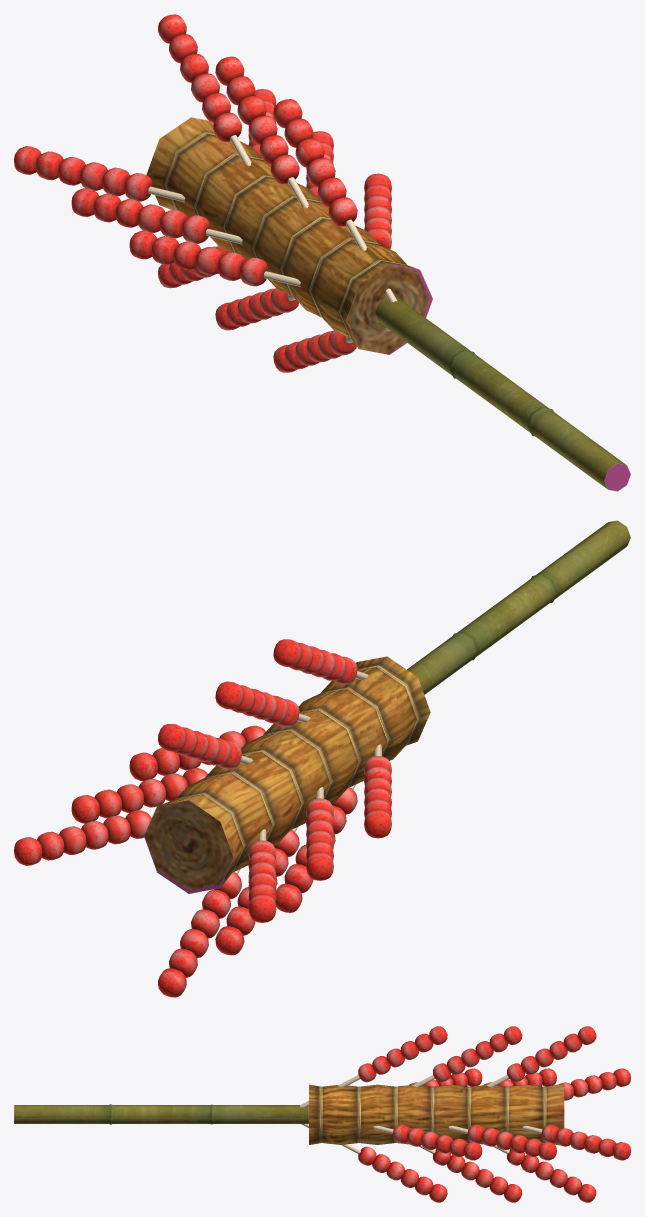
The model's file is Candied_Hawthorn_Stand.fbx.
3 views of the same model, one above another, from view 1: azimuth 30°, elevation 25°; view 2: azimuth 150°, elevation 25°; view 3: azimuth 270°, elevation 25° (orthographic). The views are drawn at different scales.
Parts seen in each view (by area): view 1: Candied Hawthorn Stand, Candied Hawthorn.008, Candied Hawthorn.011, Candied Hawthorn.010, Candied Hawthorn.009, Candied Hawthorn.007, Candied Hawthorn.006, Candied Hawthorn.005, Candied Hawthorn.003, Candied Hawthorn.004, Candied Hawthorn.001; view 2: Candied Hawthorn Stand, Candied Hawthorn, Candied Hawthorn.001, Candied Hawthorn.002, Candied Hawthorn.007, Candied Hawthorn.008, Candied Hawthorn.006, Candied Hawthorn.011, Candied Hawthorn.009, Candied Hawthorn.010, Candied Hawthorn.003, Candied Hawthorn.005 (+1 smaller); view 3: Candied Hawthorn Stand, Candied Hawthorn.008, Candied Hawthorn.005, Candied Hawthorn.007, Candied Hawthorn.006, Candied Hawthorn, Candied Hawthorn.002, Candied Hawthorn.004, Candied Hawthorn.001, Candied Hawthorn.003, Candied Hawthorn.009, Candied Hawthorn.010 (+1 smaller).
Boxes of the visible parts, x1,y1,x2,y2 form: Candied Hawthorn Stand: [146, 117, 630, 491]; Candied Hawthorn.008: [273, 99, 397, 302]; Candied Hawthorn.011: [129, 230, 300, 286]; Candied Hawthorn.010: [71, 188, 242, 244]; Candied Hawthorn.009: [14, 146, 184, 202]; Candied Hawthorn.007: [215, 56, 308, 208]; Candied Hawthorn.006: [158, 14, 251, 166]; Candied Hawthorn.005: [273, 327, 389, 372]; Candied Hawthorn.003: [215, 288, 298, 330]; Candied Hawthorn.004: [364, 173, 391, 249]; Candied Hawthorn.001: [158, 246, 230, 288]; Candied Hawthorn Stand: [144, 520, 630, 893]; Candied Hawthorn: [14, 810, 151, 865]; Candied Hawthorn.001: [158, 869, 241, 997]; Candied Hawthorn.002: [71, 768, 207, 823]; Candied Hawthorn.007: [215, 681, 310, 726]; Candied Hawthorn.008: [273, 639, 368, 684]; Candied Hawthorn.006: [158, 724, 252, 768]; Candied Hawthorn.011: [364, 744, 391, 838]; Candied Hawthorn.009: [248, 829, 276, 922]; Candied Hawthorn.010: [306, 787, 333, 880]; Candied Hawthorn.003: [215, 827, 299, 955]; Candied Hawthorn.005: [275, 784, 357, 912]; Candied Hawthorn Stand: [14, 1083, 564, 1145]; Candied Hawthorn.008: [300, 1026, 447, 1107]; Candied Hawthorn.005: [301, 1124, 447, 1202]; Candied Hawthorn.007: [412, 1026, 522, 1087]; Candied Hawthorn.006: [486, 1026, 596, 1086]; Candied Hawthorn: [522, 1124, 630, 1160]; Candied Hawthorn.002: [448, 1124, 556, 1160]; Candied Hawthorn.004: [373, 1124, 482, 1160]; Candied Hawthorn.001: [493, 1145, 596, 1202]; Candied Hawthorn.003: [418, 1145, 522, 1202]; Candied Hawthorn.009: [559, 1068, 630, 1100]; Candied Hawthorn.010: [474, 1068, 556, 1086].
Size of the model in its own units: 6.75 by 21.66 by 6.75.
